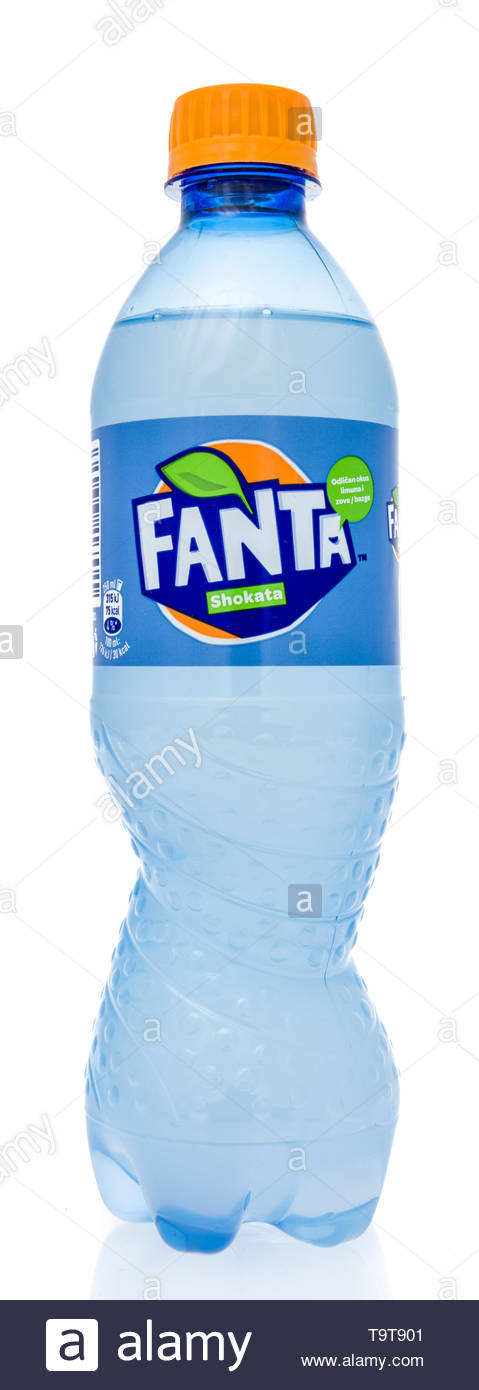fanta_bottle: (87, 80, 402, 1251)
